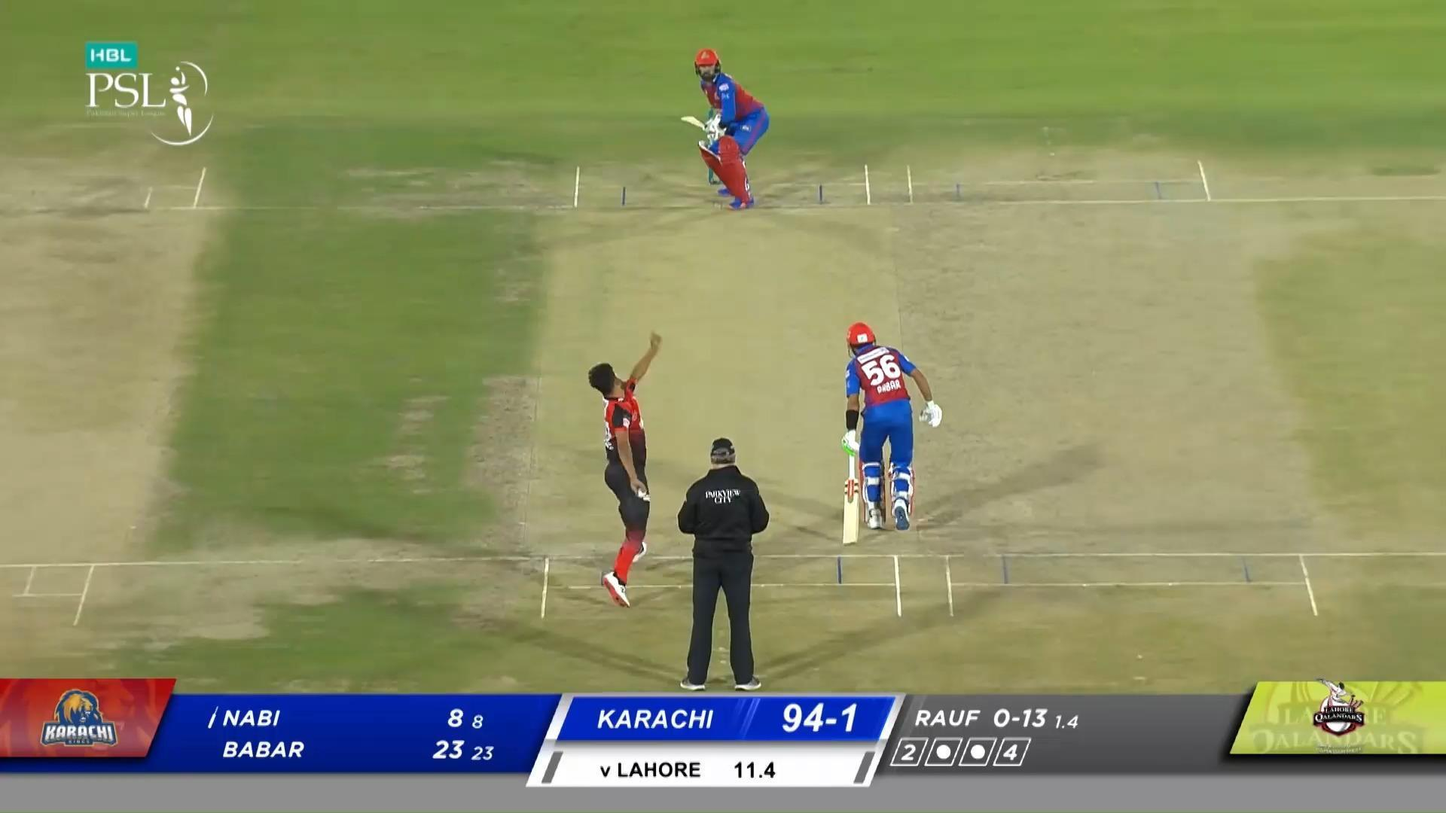BM 1: (681, 49, 769, 210)
BO: (588, 330, 664, 607)
